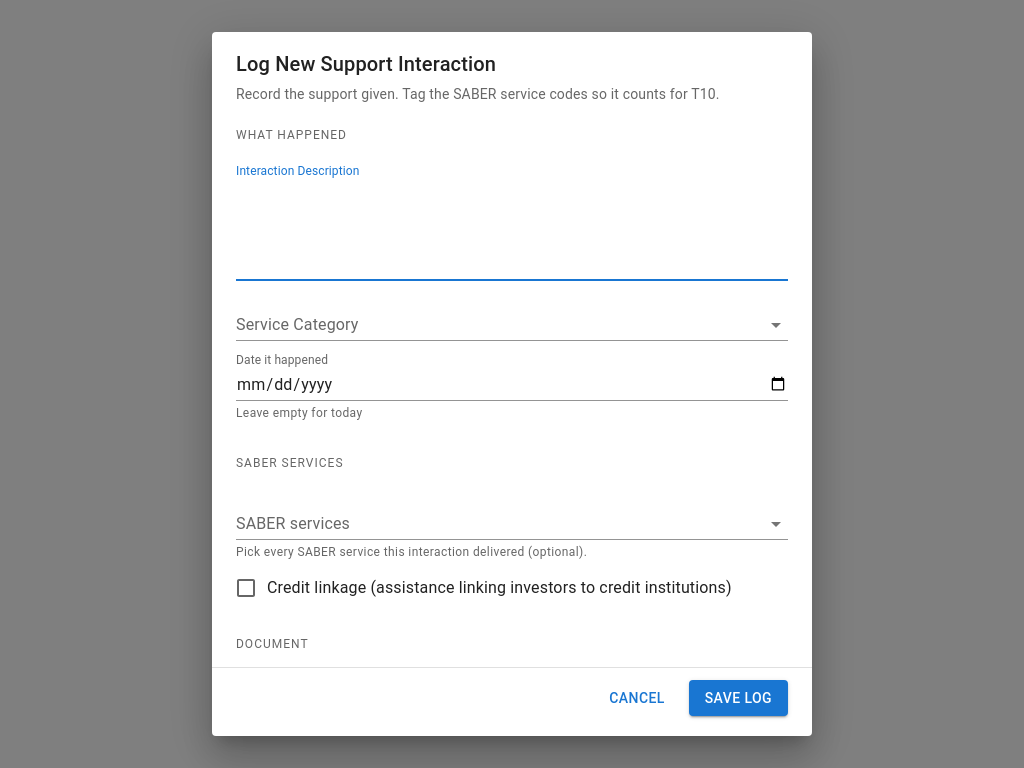
Test case: InteractionLogForm › shows an error if submitting with empty fields
The width and height of the screenshot is (1024, 768).
Click the button "Save Log": point(738, 698) [689,680,788,716]
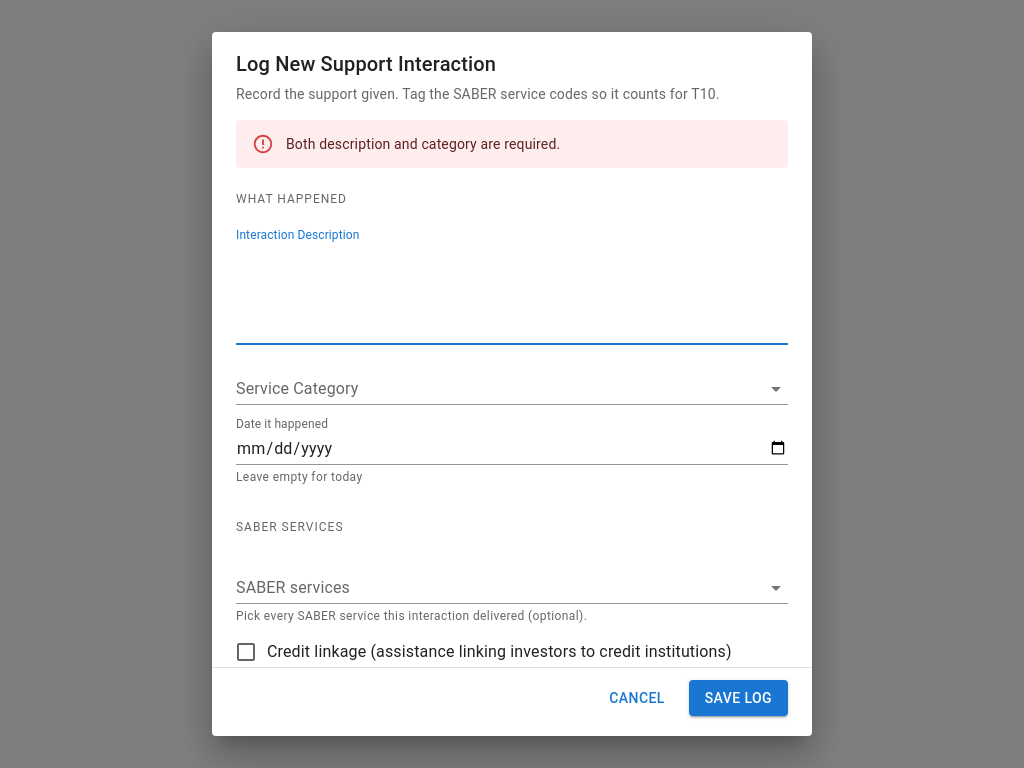
Expected: the text "Both description and category are required." is shown, [286,136,560,152]
